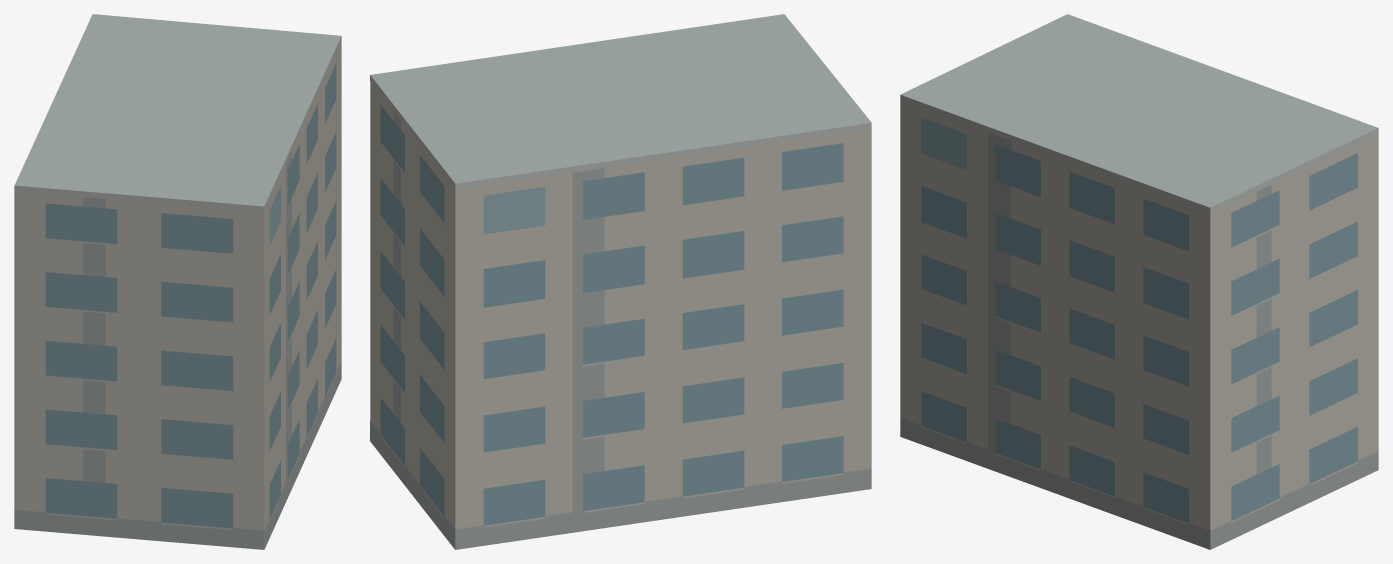
File: survey-upis-32883918.glb
The picture shows the model from 3 angles, left to right: view 1: azimuth 30°, elevation 25°; view 2: azimuth 150°, elevation 25°; view 3: azimuth 270°, elevation 25°; orthographic projection. The views are drawn at different scales.
Visible parts, largest first — view 1: survey-upis-32883918.tmp; view 2: survey-upis-32883918.tmp; view 3: survey-upis-32883918.tmp.
Boxes of the visible parts, box(x1,y1,x2,y2) form: survey-upis-32883918.tmp: box(14, 14, 341, 549); survey-upis-32883918.tmp: box(370, 14, 871, 549); survey-upis-32883918.tmp: box(900, 14, 1378, 549).
Size of the model in its own units: 17.5 by 14.4 by 18.26.
